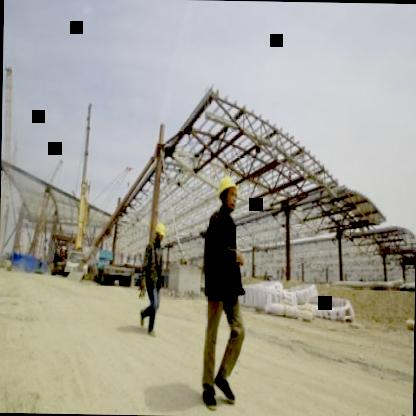helmet: (214, 174, 239, 208), (150, 220, 167, 245)
